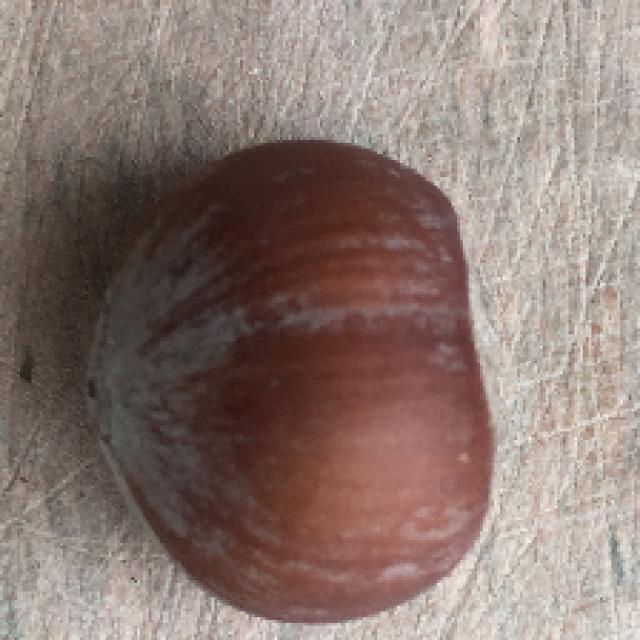damagedHazelnut: (83, 133, 521, 628)
